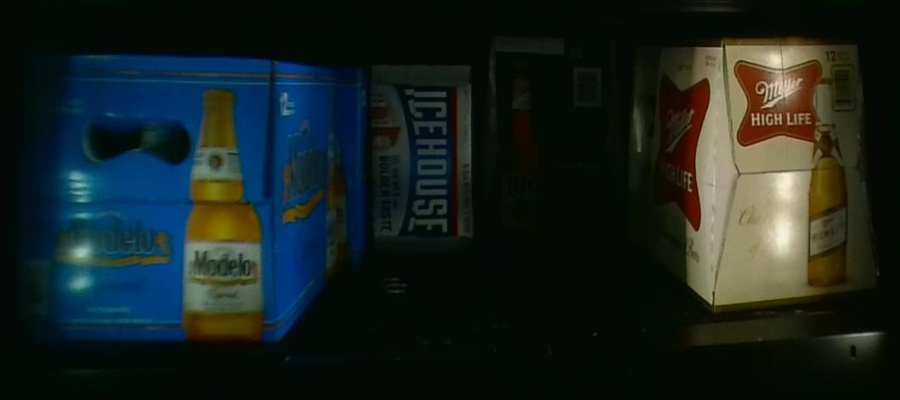bottle: (14, 61, 331, 342), (629, 36, 880, 308), (489, 35, 622, 248), (370, 66, 474, 249)
